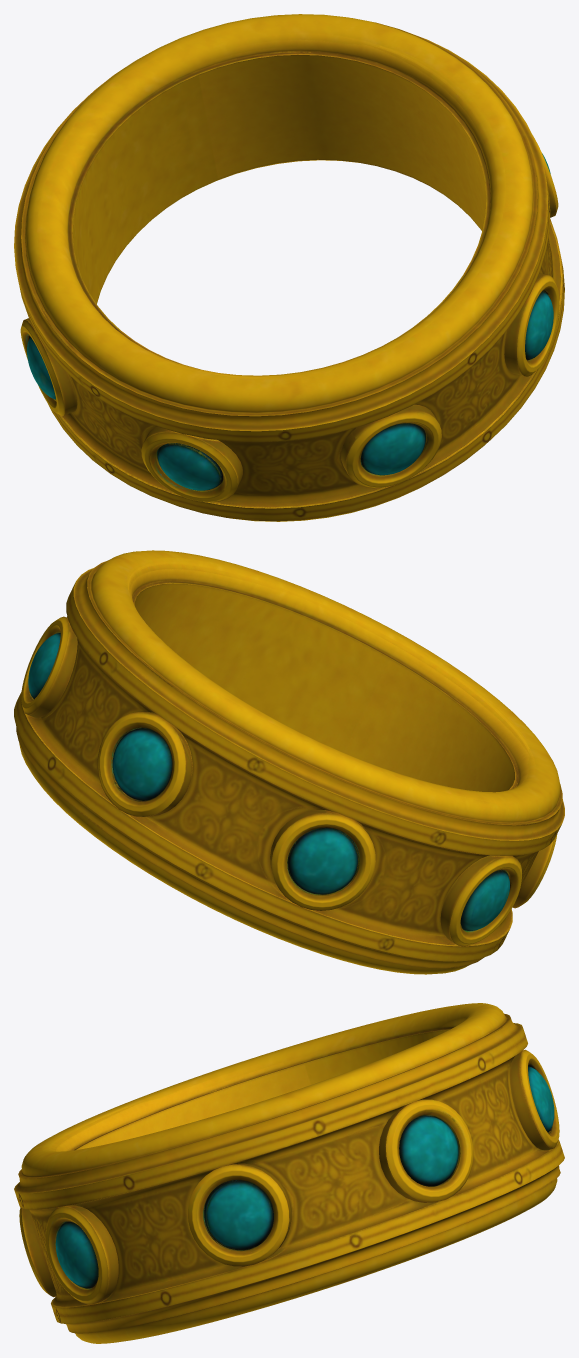
3 views of the same model, one above another, from view 1: azimuth 30°, elevation 25°; view 2: azimuth 150°, elevation 25°; view 3: azimuth 270°, elevation 25° (orthographic).
Visible parts, largest first — view 1: textured_mesh.019; view 2: textured_mesh.019; view 3: textured_mesh.019.
Part boxes in pixels (left/top/right/bottom): textured_mesh.019: left=14, top=14, right=564, bottom=521; textured_mesh.019: left=14, top=550, right=564, bottom=974; textured_mesh.019: left=14, top=1003, right=564, bottom=1343.
Bounding box in the file's own units: 0.8994 × 0.6359 × 0.9.
Materials: 1 (1 with a texture image).
